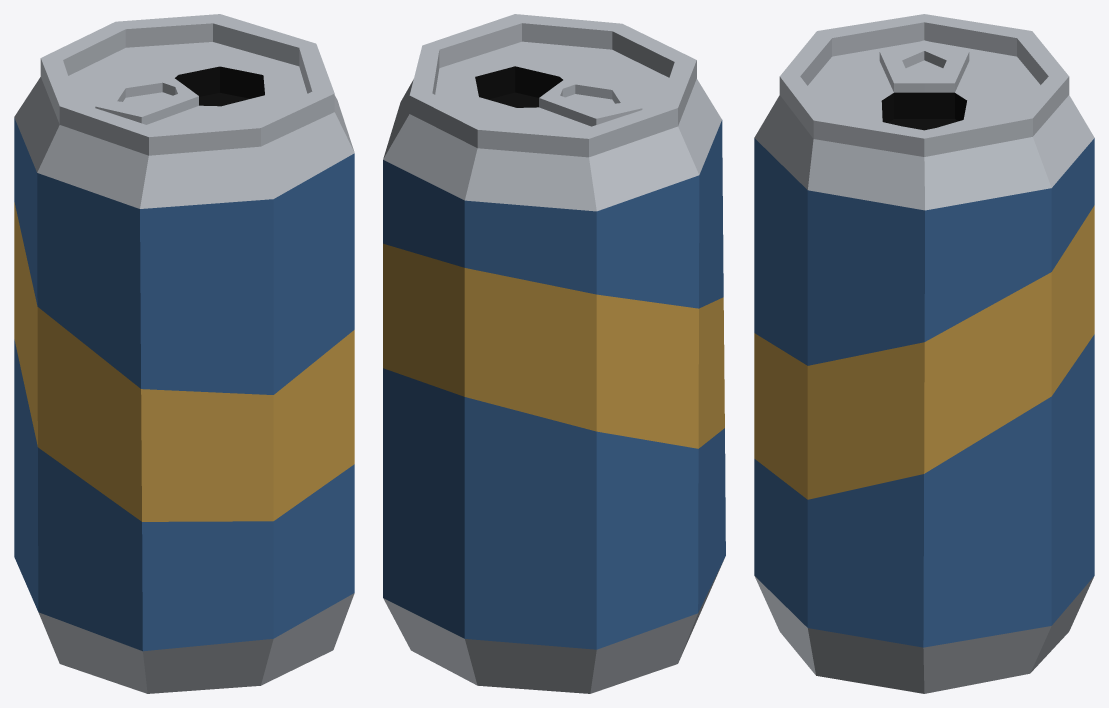
Rendered from SM_Prop_Can_Soda_01.glb.
The picture shows the model from 3 angles, left to right: view 1: azimuth 30°, elevation 25°; view 2: azimuth 150°, elevation 25°; view 3: azimuth 270°, elevation 25°; orthographic projection.
Parts seen in each view (by area): view 1: SM_Prop_Can_Soda_01; view 2: SM_Prop_Can_Soda_01; view 3: SM_Prop_Can_Soda_01.
Part boxes in pixels (<box>): SM_Prop_Can_Soda_01: <box>14,14,354,693</box>; SM_Prop_Can_Soda_01: <box>383,14,725,693</box>; SM_Prop_Can_Soda_01: <box>754,14,1094,693</box>.
Bounding box in the file's own units: 0.1096 × 0.1946 × 0.1081.
1 material, 1 textured.
